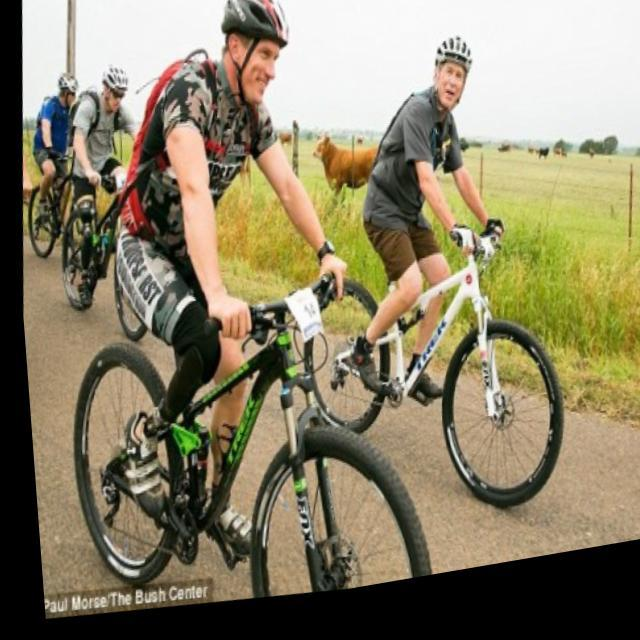Helmet: (214, 0, 294, 112), (425, 29, 477, 115)
